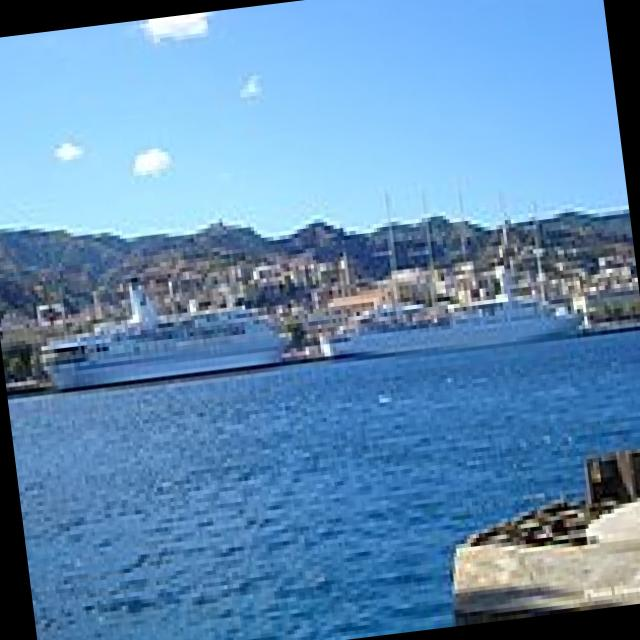boat: (46, 280, 304, 410), (322, 260, 598, 368)
